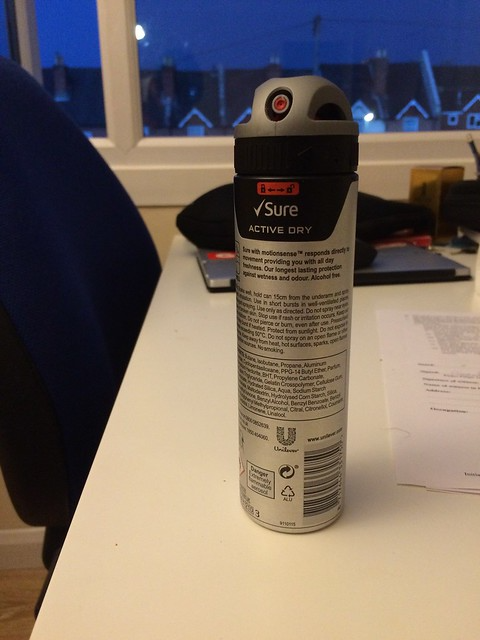can: (220, 68, 364, 548)
